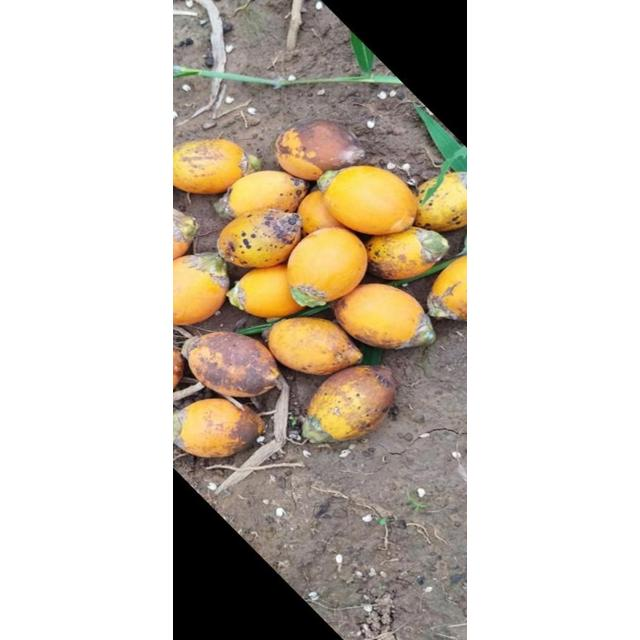good: (303, 364, 399, 442), (332, 284, 434, 350), (286, 227, 368, 307), (322, 166, 418, 234), (185, 332, 282, 398), (274, 119, 366, 179), (266, 318, 364, 374), (173, 398, 263, 457), (216, 210, 304, 268), (362, 227, 450, 281), (228, 265, 308, 319), (222, 171, 308, 219), (174, 140, 248, 194), (174, 253, 230, 324), (412, 172, 466, 232), (297, 190, 349, 236)
